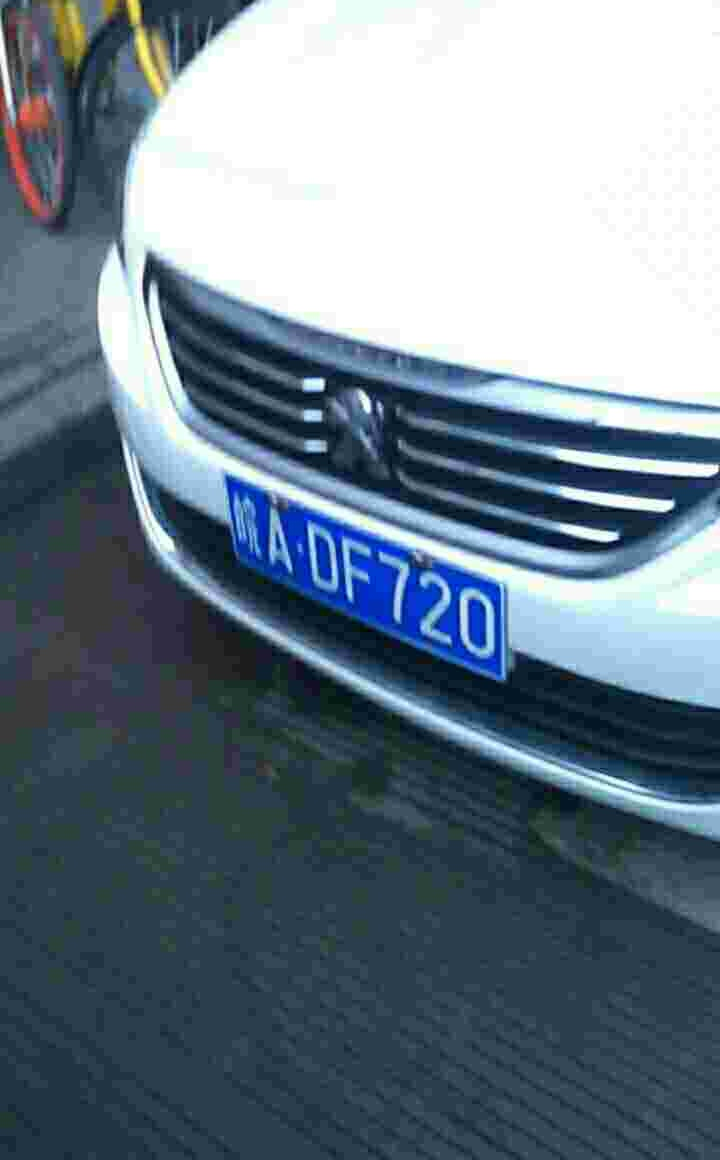license_plate: (216, 473, 519, 676)
